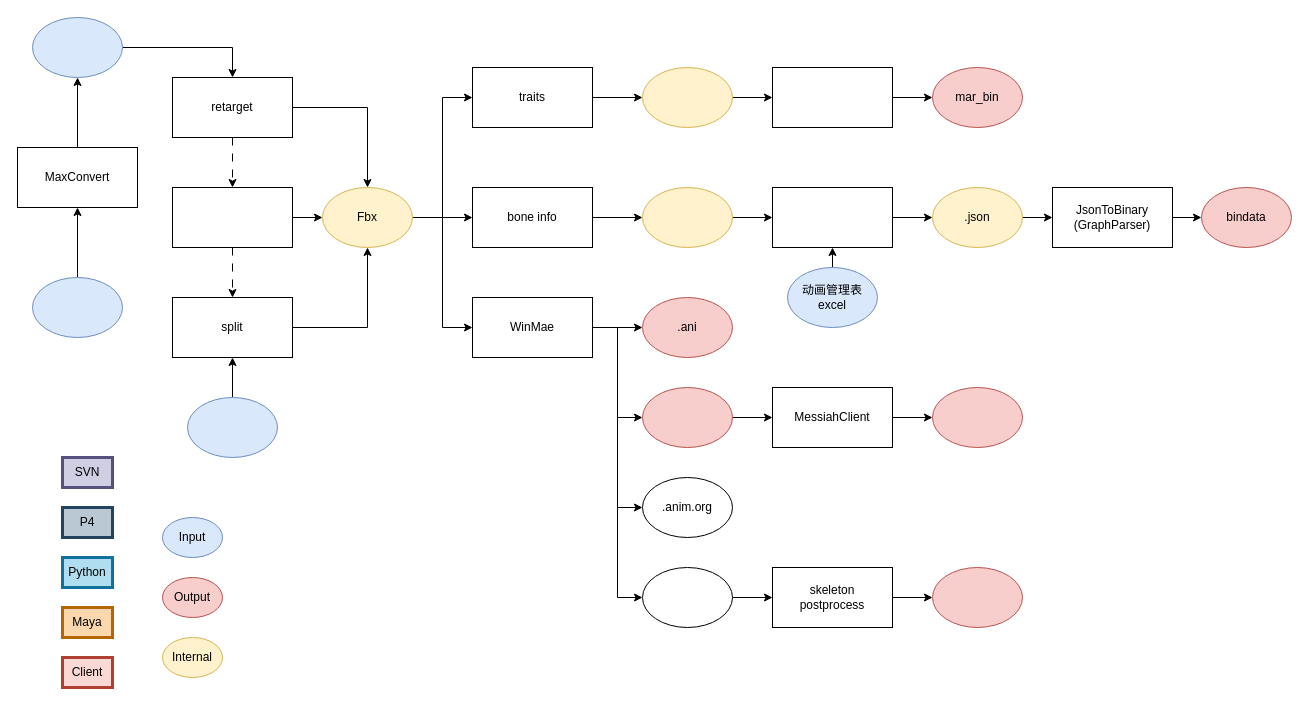
Some shapes in this 1309 by 706 pixel diagram are drawn without their labels. The shapes that lost their labels are listed below. From the top down, each one's box as (x1, y1, x2, y2) in pixels, then its label:
(32, 16, 122, 78): OriginFbx
(642, 66, 732, 128): meta
(772, 66, 892, 128): MarBinaryConverter
(172, 186, 292, 248): enhance
(642, 186, 732, 248): skeleton_info.txt
(772, 186, 892, 248): JsonMerge （AnimGitExport）
(32, 276, 122, 338): OriginMax
(186, 396, 278, 458): rule
(642, 386, 732, 448): .anim
(932, 386, 1022, 448): .motion
(642, 566, 732, 628): org.skeleton
(932, 566, 1022, 628): .skeleton
